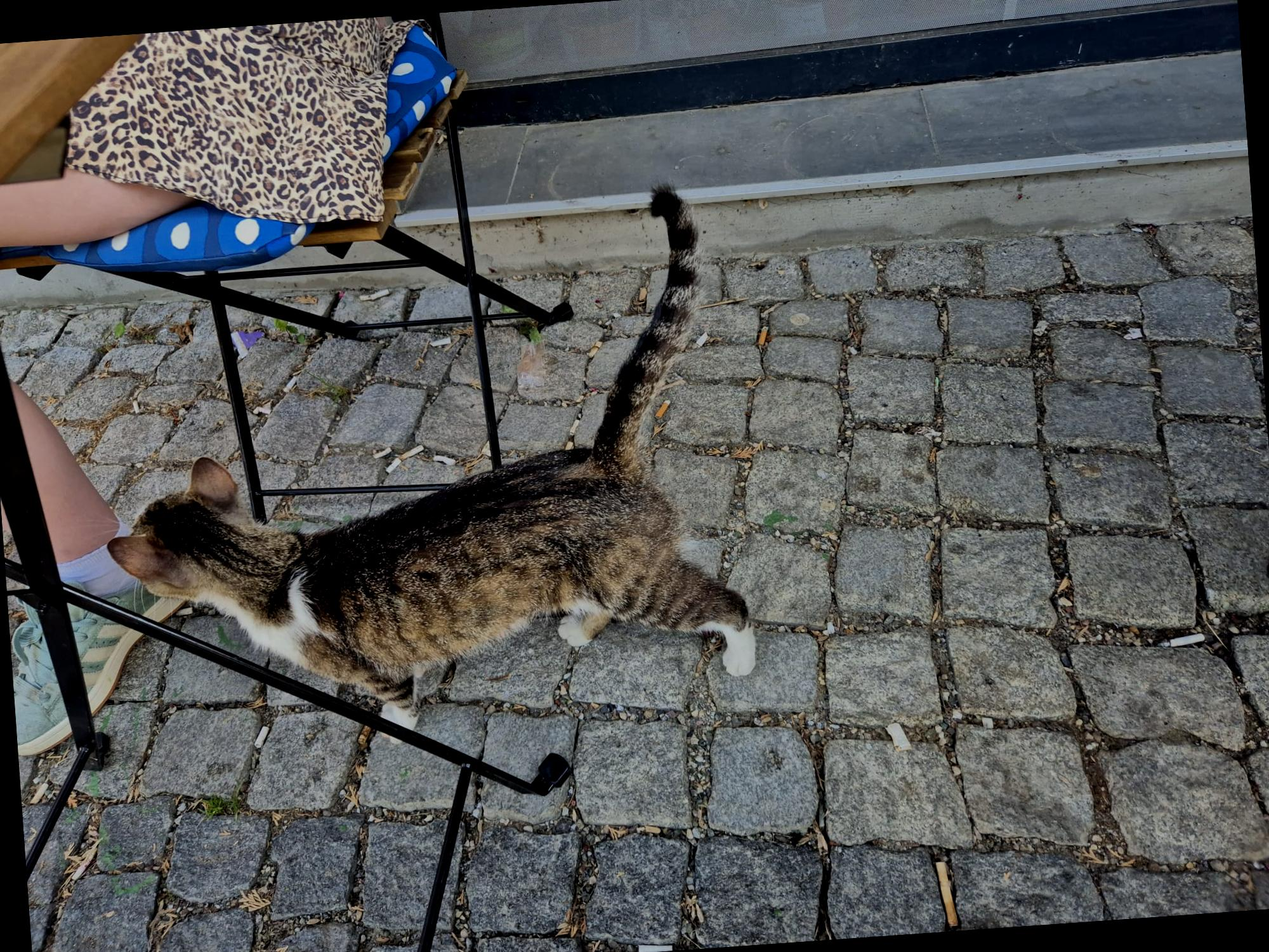macka: (86, 187, 764, 751)
